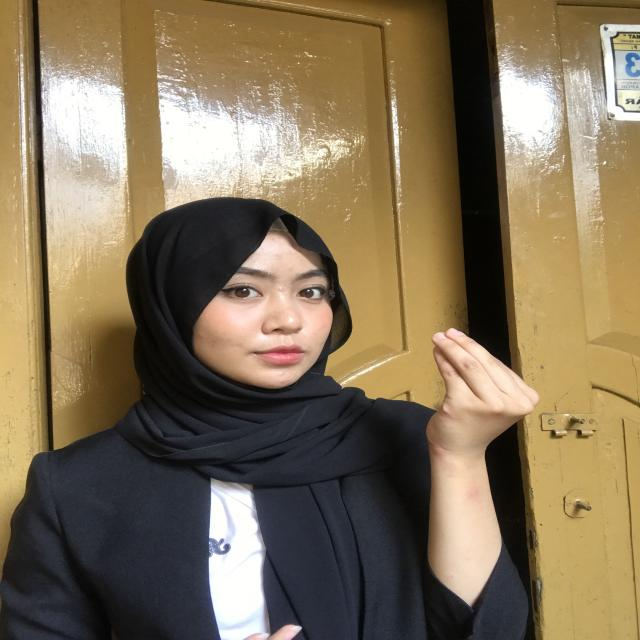kapan: (378, 315, 574, 483)
